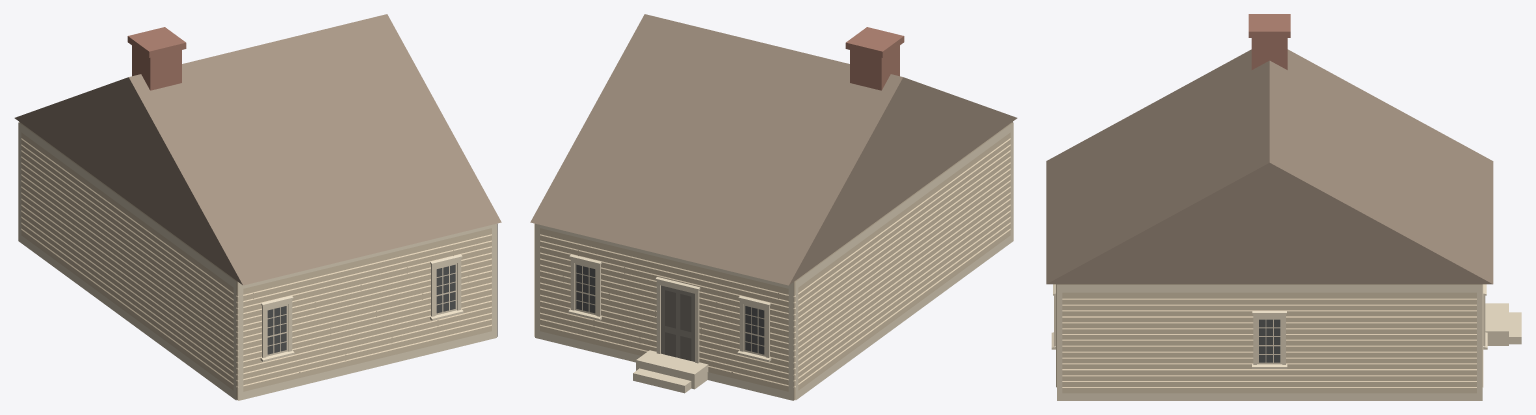
File: recon_1835_north_d5_071__inferred_1835.glb
The picture shows the model from 3 angles, left to right: view 1: azimuth 30°, elevation 25°; view 2: azimuth 150°, elevation 25°; view 3: azimuth 270°, elevation 25°; orthographic projection. The views are drawn at different scales.
Visible parts, largest first — view 1: recon_1835_north_d5_071__inferred_1835; view 2: recon_1835_north_d5_071__inferred_1835; view 3: recon_1835_north_d5_071__inferred_1835.
Boxes of the visible parts, x1,y1,x2,y2 form: recon_1835_north_d5_071__inferred_1835: [14, 14, 501, 400]; recon_1835_north_d5_071__inferred_1835: [530, 14, 1017, 400]; recon_1835_north_d5_071__inferred_1835: [1046, 14, 1521, 400].
Bounding box in the file's own units: 6.99 × 6.93 × 11.15.
